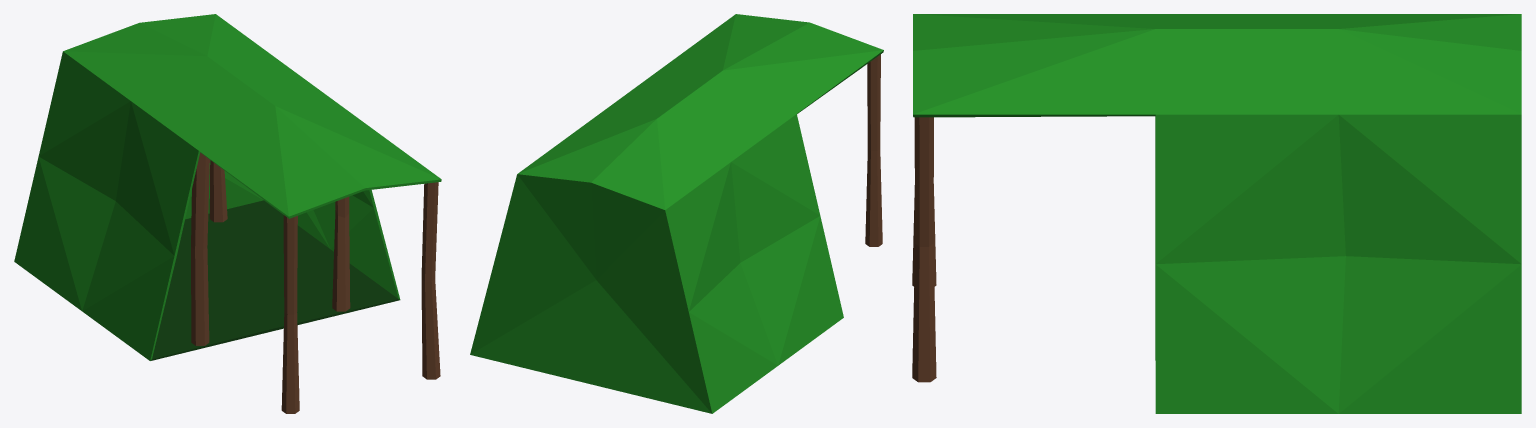
File: Tent_4_Green.fbx
The picture shows the model from 3 angles, left to right: view 1: azimuth 30°, elevation 25°; view 2: azimuth 150°, elevation 25°; view 3: azimuth 270°, elevation 25°; orthographic projection. The views are drawn at different scales.
Visible parts, largest first — view 1: Tent_4_Green_Part_2, Tent_4_Green_Part_3, Tent_4_Green_Part_1, Tent_4_Green_Part_4, Tent_4_Green_Part_8, Tent_4_Green_Part_6, Tent_4_Green_Part_7, Tent_4_Green_Part_9, Tent_4_Green_Part_11, Tent_4_Green_Part_5; view 2: Tent_4_Green_Part_5, Tent_4_Green_Part_2, Tent_4_Green_Part_3, Tent_4_Green_Part_7; view 3: Tent_4_Green_Part_4, Tent_4_Green_Part_2, Tent_4_Green_Part_6.
Boxes of the visible parts, x1=… form: Tent_4_Green_Part_2: x1=63, y1=14, x2=441, y2=218; Tent_4_Green_Part_3: x1=14, y1=51, x2=200, y2=360; Tent_4_Green_Part_1: x1=151, y1=200, x2=399, y2=360; Tent_4_Green_Part_4: x1=264, y1=190, x2=400, y2=299; Tent_4_Green_Part_8: x1=191, y1=152, x2=209, y2=345; Tent_4_Green_Part_6: x1=421, y1=182, x2=440, y2=379; Tent_4_Green_Part_7: x1=281, y1=215, x2=299, y2=413; Tent_4_Green_Part_9: x1=332, y1=196, x2=350, y2=311; Tent_4_Green_Part_11: x1=209, y1=160, x2=227, y2=222; Tent_4_Green_Part_5: x1=185, y1=160, x2=263, y2=219; Tent_4_Green_Part_5: x1=470, y1=174, x2=712, y2=413; Tent_4_Green_Part_2: x1=517, y1=14, x2=883, y2=209; Tent_4_Green_Part_3: x1=665, y1=114, x2=843, y2=413; Tent_4_Green_Part_7: x1=865, y1=54, x2=882, y2=246; Tent_4_Green_Part_4: x1=1155, y1=114, x2=1521, y2=413; Tent_4_Green_Part_2: x1=913, y1=14, x2=1521, y2=117; Tent_4_Green_Part_6: x1=912, y1=117, x2=936, y2=382.
Size of the model in its own units: 320 by 274 by 501.
